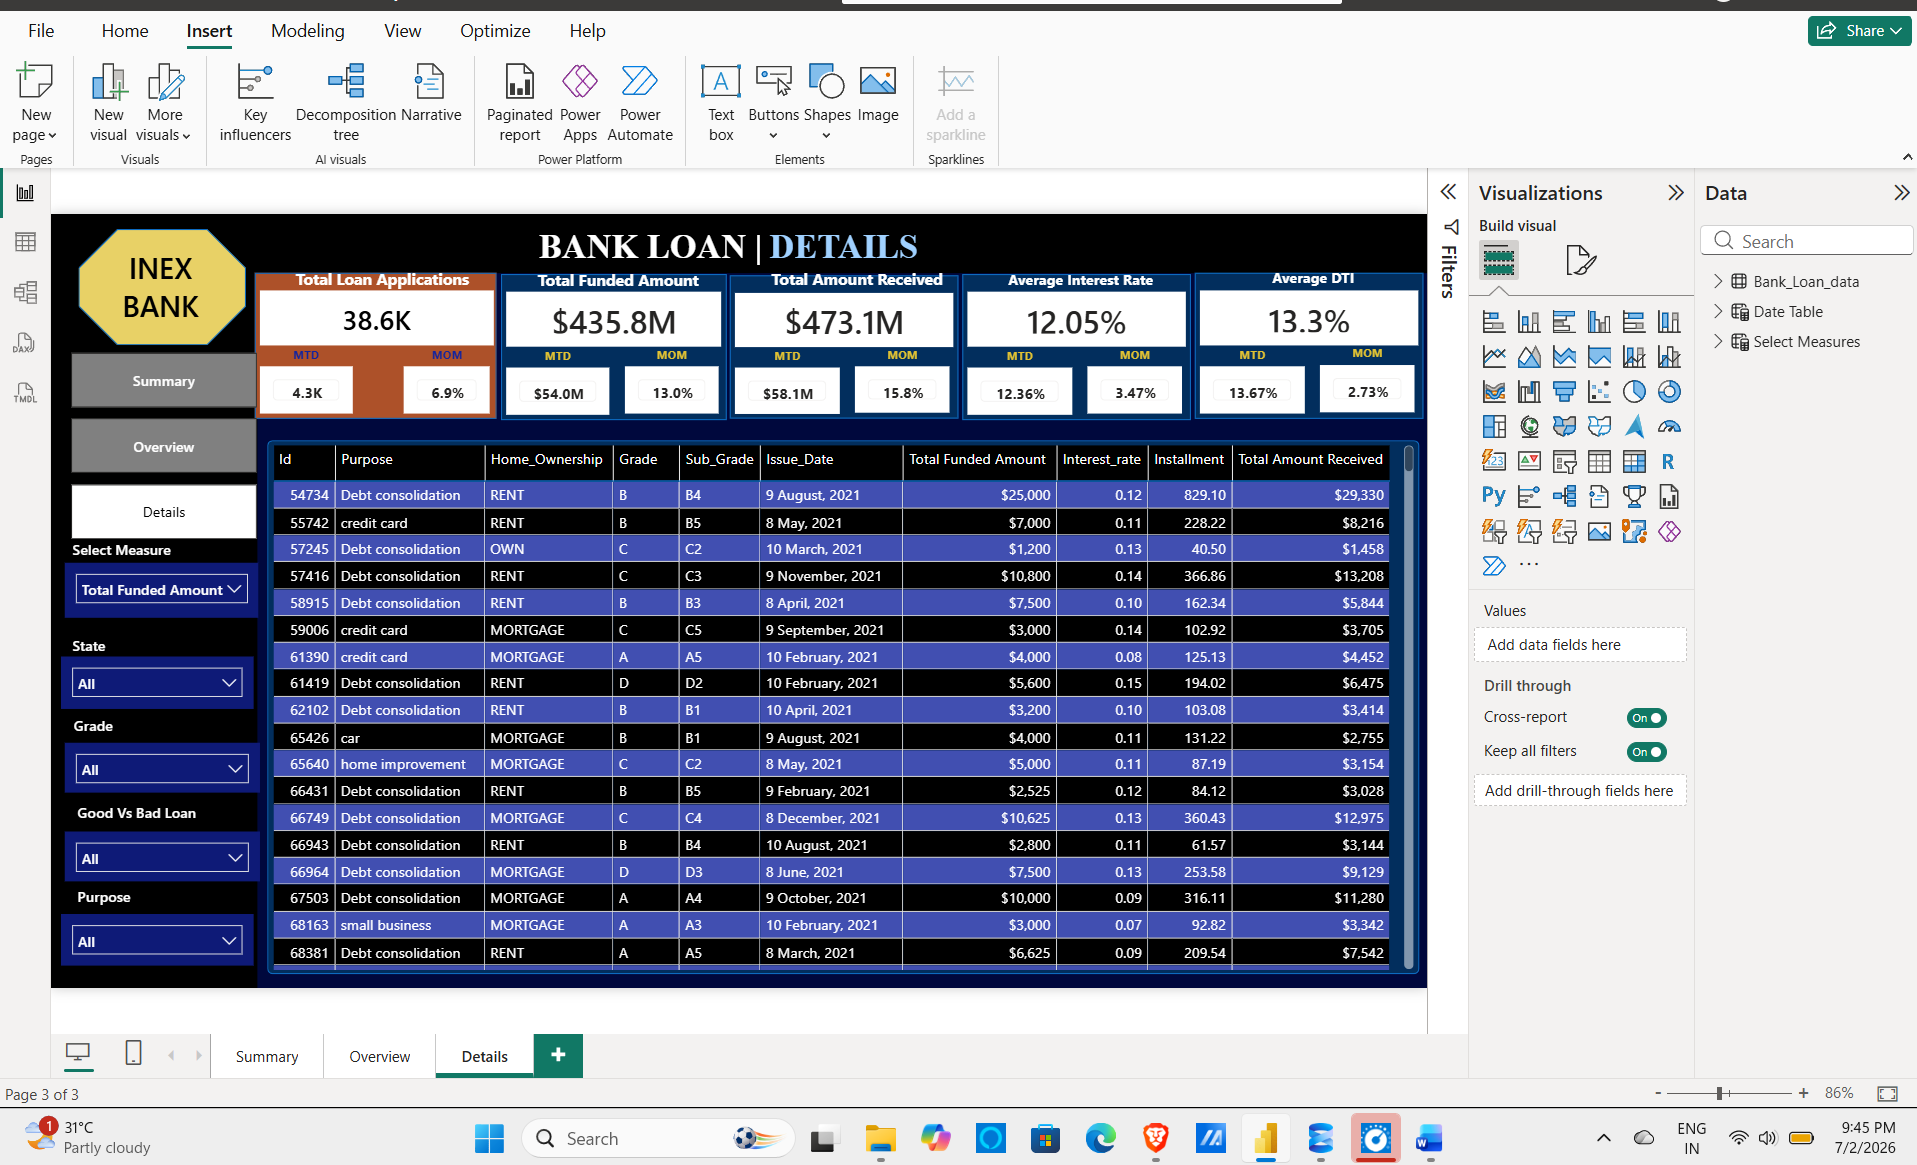

The dashboard page shown, as its layout file describes it:
{"tool":"powerbi","page":{"name":"Details","canvas":[1280,720],"ordinal":2},"visuals":[{"type":"shape","box":[189.4,54.7,225,135.9],"z":0,"group":"g1"},{"type":"shape","box":[1063.5,54.7,212.8,135.9],"z":0,"group":"g5"},{"type":"shape","box":[418.9,56.1,210,135.9],"z":0,"group":"g2"},{"type":"shape","box":[847.7,56.1,212.8,135.9],"z":0,"group":"g4"},{"type":"shape","box":[631.9,57.2,212.8,133.4],"z":0,"group":"g3"},{"type":"shape","box":[201.1,210.9,1071.8,496.6],"z":0},{"type":"shape","box":[0,0,1280.3,55],"z":1000},{"type":"cardVisual","fields":{"Data":["Bank_Loan_data.Total Loan Application"]},"box":[189.4,65.7,227.8,61.2],"z":1000,"group":"g1"},{"type":"cardVisual","fields":{"Data":["Bank_Loan_data.AvG DTI"]},"box":[1063.5,65.7,213.7,61.2],"z":1000,"group":"g5"},{"type":"cardVisual","fields":{"Data":["Bank_Loan_data.Total Funded Amount"]},"box":[418.9,67.1,210.9,61.2],"z":1000,"group":"g2"},{"type":"cardVisual","fields":{"Data":["Bank_Loan_data.AvG Interest Rate"]},"box":[847.7,67.1,213.7,61.2],"z":1000,"group":"g4"},{"type":"cardVisual","fields":{"Data":["Bank_Loan_data.Total Amount Received"]},"box":[631.9,68,213.7,60],"z":1000,"group":"g3"},{"type":"textbox","box":[197.1,44.9,220.9,31.6],"z":2000,"group":"g1"},{"type":"textbox","box":[651.2,45.2,197.6,30.2],"z":2000,"group":"g3"},{"type":"textbox","box":[1074.9,45.3,197.2,31.3],"z":2000,"group":"g5"},{"type":"textbox","box":[430.1,46.7,194.7,31.3],"z":2000,"group":"g2"},{"type":"textbox","box":[859.1,46.7,197.2,31.3],"z":2000,"group":"g4"},{"type":"shape","box":[0,54.9,192,665.5],"z":2000},{"type":"textbox","box":[448.8,7.4,434.1,47.8],"z":3000},{"type":"cardVisual","title":"MTD","fields":{"Data":["Bank_Loan_data.MTD Total Loan Applications"]},"box":[189.4,122.6,96.1,68],"z":3000,"group":"g1"},{"type":"cardVisual","title":"MTD","fields":{"Data":["Bank_Loan_data.MTD Avg DTI"]},"box":[1063.8,123.1,107.7,68],"z":3000,"group":"g5"},{"type":"cardVisual","title":"MTD","fields":{"Data":["Bank_Loan_data.MTD Amount Received"]},"box":[632.2,124.3,107.7,66.7],"z":3000,"group":"g3"},{"type":"cardVisual","title":"MTD","fields":{"Data":["Bank_Loan_data.MTD Funded Amount"]},"box":[419.2,124.5,106.3,68],"z":3000,"group":"g2"},{"type":"cardVisual","title":"MTD","fields":{"Data":["Bank_Loan_data.MTD AvG Interest"]},"box":[848,124.5,107.7,68],"z":3000,"group":"g4"},{"type":"group","id":"g1","title":"Group 1","box":[189.4,44.9,228.7,145.7],"z":4000},{"type":"cardVisual","title":"MOM","fields":{"Data":["Bank_Loan_data.MOM AvG DTI"]},"box":[1175.4,121.7,98.6,68],"z":4000,"group":"g5"},{"type":"cardVisual","title":"MOM","fields":{"Data":["Bank_Loan_data.MOM Loan Application"]},"box":[323.6,122.6,90.8,68],"z":4000,"group":"g1"},{"type":"cardVisual","title":"MOM","fields":{"Data":["Bank_Loan_data.MOM Amount Received"]},"box":[743.8,123,98.6,66.7],"z":4000,"group":"g3"},{"type":"cardVisual","title":"MOM","fields":{"Data":["Bank_Loan_data.MOM Funded Amount"]},"box":[529.4,123.1,97.3,68],"z":4000,"group":"g2"},{"type":"cardVisual","title":"MOM","fields":{"Data":["Bank_Loan_data.MOM AvG Interest Rate"]},"box":[959.6,123.1,98.6,68],"z":4000,"group":"g4"},{"type":"group","id":"g2","title":"Group 1","box":[418.9,46.7,211.3,145.5],"z":5000},{"type":"group","id":"g3","title":"Group 1","box":[631.9,45.2,216.9,145.8],"z":6000},{"type":"group","id":"g4","title":"Group 1","box":[847.7,46.7,214.1,145.5],"z":7000},{"type":"group","id":"g5","title":"Group 1","box":[1063.5,45.3,214.1,145.5],"z":8000},{"type":"slicer","fields":{"Values":["Bank_Loan_data.address_state"]},"box":[9.8,412,179,49.1],"z":9000},{"type":"textbox","box":[14.7,387.5,78.5,30.7],"z":10000},{"type":"slicer","fields":{"Values":["Bank_Loan_data.grade"]},"box":[12.3,491.7,181.5,46.6],"z":11000},{"type":"slicer","fields":{"Values":["Bank_Loan_data.purpose"]},"box":[9.8,651.2,179,47.8],"z":12000},{"type":"textbox","box":[15.9,461.1,79.7,30.7],"z":13000},{"type":"textbox","box":[19.6,620.5,80.9,30.7],"z":14000},{"type":"slicer","fields":{"Values":["Select Measures.Select Measures"]},"box":[12.3,325,180.3,51.5],"z":15000},{"type":"textbox","box":[14.7,298,128.8,36.8],"z":16000},{"type":"slicer","fields":{"Values":["Bank_Loan_data.Good VS Bad Loan"]},"box":[12.3,573.9,181.5,46.6],"z":17000},{"type":"textbox","box":[19.6,543.2,138.6,30.7],"z":18000},{"type":"tableEx","fields":{"Values":["Bank_Loan_data.id","Bank_Loan_data.purpose","Bank_Loan_data.home_ownership","Bank_Loan_data.grade","Bank_Loan_data.sub_grade","Bank_Loan_data.issue_date","Bank_Loan_data.Total Funded Amount","Sum(Bank_Loan_data.int_rate)","Sum(Bank_Loan_data.installment)","Bank_Loan_data.Total Amount Received"]},"box":[201.1,210.9,1071.8,496.6],"z":19000},{"type":"pageNavigator","box":[18.6,129.1,173.3,174.4],"z":20000},{"type":"shape","box":[25.6,14,155.8,108.1],"z":21000},{"type":"textbox","box":[47.7,26.7,108.1,81.4],"z":21001}]}

Visuals, with their boxes on the page's 1280x720 design canvas (x1, y1, x2, y2). These are canvas units, not pixel positions in the 1917x1165 screenshot, which may show the page scaled, cropped or inside an application window:
shape: <region>189, 55, 414, 191</region>
shape: <region>1064, 55, 1276, 191</region>
shape: <region>419, 56, 629, 192</region>
shape: <region>848, 56, 1060, 192</region>
shape: <region>632, 57, 845, 191</region>
shape: <region>201, 211, 1273, 708</region>
shape: <region>0, 0, 1280, 55</region>
cardVisual - Bank_Loan_data.Total Loan Application: <region>189, 66, 417, 127</region>
cardVisual - Bank_Loan_data.AvG DTI: <region>1064, 66, 1277, 127</region>
cardVisual - Bank_Loan_data.Total Funded Amount: <region>419, 67, 630, 128</region>
cardVisual - Bank_Loan_data.AvG Interest Rate: <region>848, 67, 1061, 128</region>
cardVisual - Bank_Loan_data.Total Amount Received: <region>632, 68, 846, 128</region>
textbox: <region>197, 45, 418, 76</region>
textbox: <region>651, 45, 849, 75</region>
textbox: <region>1075, 45, 1272, 77</region>
textbox: <region>430, 47, 625, 78</region>
textbox: <region>859, 47, 1056, 78</region>
shape: <region>0, 55, 192, 720</region>
textbox: <region>449, 7, 883, 55</region>
"MTD" cardVisual: <region>189, 123, 286, 191</region>
"MTD" cardVisual: <region>1064, 123, 1172, 191</region>
"MTD" cardVisual: <region>632, 124, 740, 191</region>
"MTD" cardVisual: <region>419, 124, 526, 192</region>
"MTD" cardVisual: <region>848, 124, 956, 192</region>
"Group 1" group: <region>189, 45, 418, 191</region>
"MOM" cardVisual: <region>1175, 122, 1274, 190</region>
"MOM" cardVisual: <region>324, 123, 414, 191</region>
"MOM" cardVisual: <region>744, 123, 842, 190</region>
"MOM" cardVisual: <region>529, 123, 627, 191</region>
"MOM" cardVisual: <region>960, 123, 1058, 191</region>
"Group 1" group: <region>419, 47, 630, 192</region>
"Group 1" group: <region>632, 45, 849, 191</region>
"Group 1" group: <region>848, 47, 1062, 192</region>
"Group 1" group: <region>1064, 45, 1278, 191</region>
slicer - Bank_Loan_data.address_state: <region>10, 412, 189, 461</region>
textbox: <region>15, 388, 93, 418</region>
slicer - Bank_Loan_data.grade: <region>12, 492, 194, 538</region>
slicer - Bank_Loan_data.purpose: <region>10, 651, 189, 699</region>
textbox: <region>16, 461, 96, 492</region>
textbox: <region>20, 620, 100, 651</region>
slicer - Select Measures.Select Measures: <region>12, 325, 193, 376</region>
textbox: <region>15, 298, 144, 335</region>
slicer - Bank_Loan_data.Good VS Bad Loan: <region>12, 574, 194, 620</region>
textbox: <region>20, 543, 158, 574</region>
tableEx - Bank_Loan_data.id x Bank_Loan_data.purpose: <region>201, 211, 1273, 708</region>
pageNavigator: <region>19, 129, 192, 304</region>
shape: <region>26, 14, 181, 122</region>
textbox: <region>48, 27, 156, 108</region>
